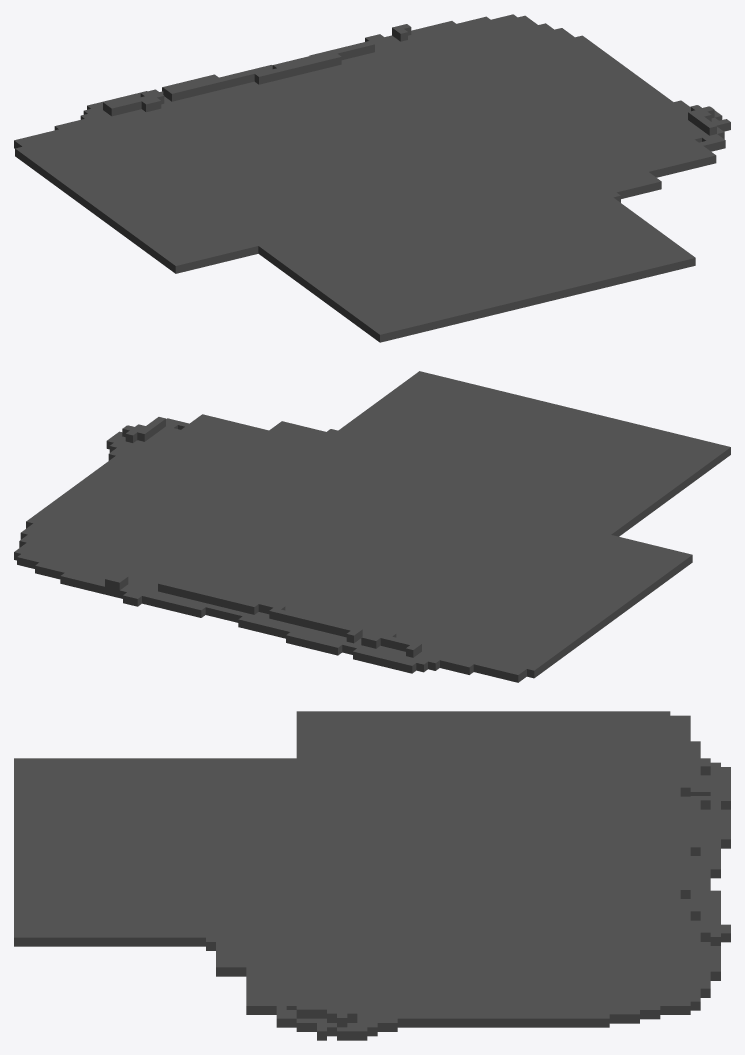
Rendered from MIne_1-1.obj.
The picture shows the model from 3 angles, top to bottom: view 1: azimuth 30°, elevation 25°; view 2: azimuth 150°, elevation 25°; view 3: azimuth 270°, elevation 25°; orthographic projection. The views are drawn at different scales.
Size of the model in its own units: 7.5 by 0.2 by 7.1.
Materials: 1 (1 with a texture image).
